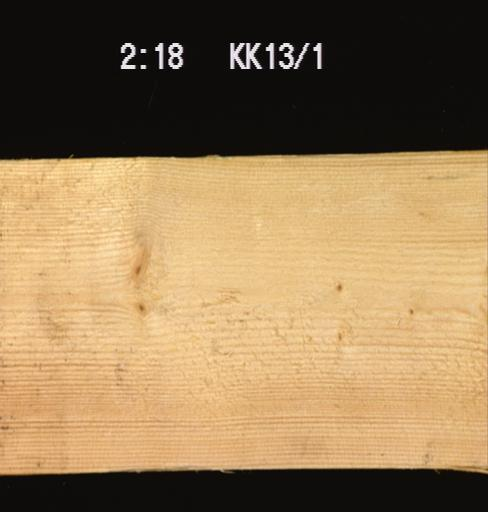small_knot: (121, 250, 154, 283), (126, 295, 158, 323), (397, 298, 424, 323), (326, 319, 351, 344), (327, 276, 352, 295)
